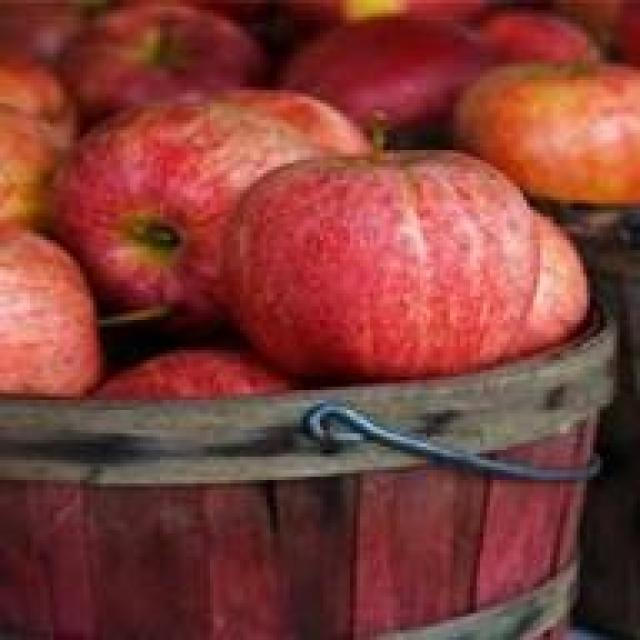apple: (80, 86, 377, 326), (226, 153, 546, 370), (463, 50, 637, 193), (290, 17, 487, 143), (70, 3, 247, 107), (3, 226, 110, 396)
